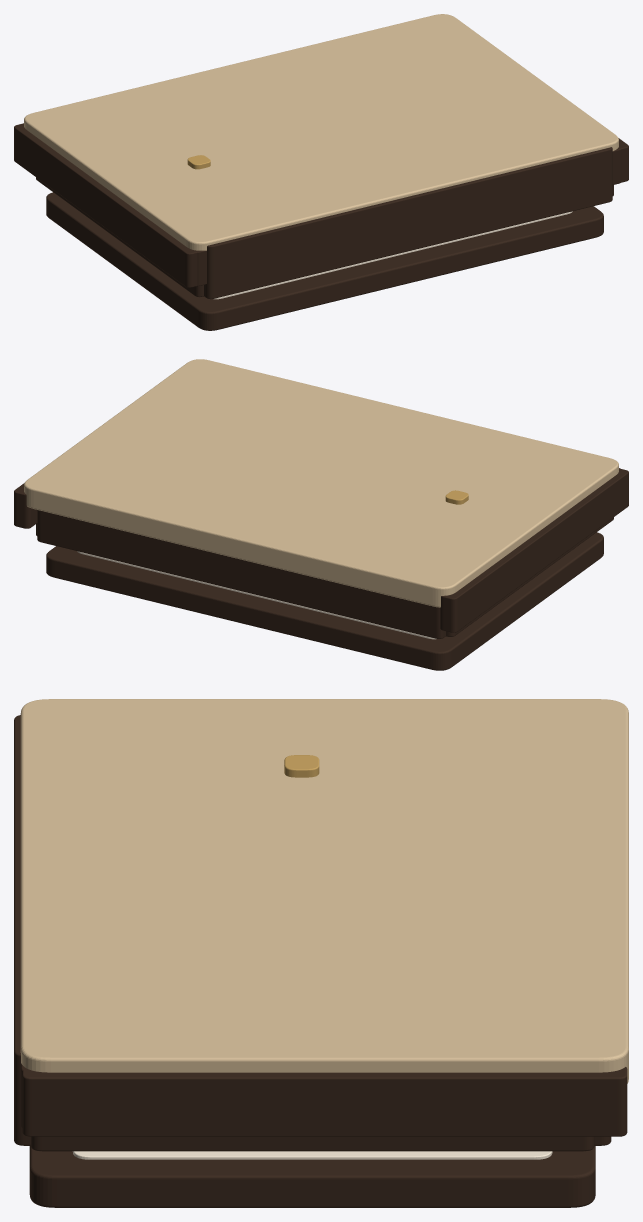
File: past-box.glb
3 views of the same model, one above another, from view 1: azimuth 30°, elevation 25°; view 2: azimuth 150°, elevation 25°; view 3: azimuth 270°, elevation 25° (orthographic). The views are drawn at different scales.
Visible parts, largest first — view 1: lid_panel, base_front_wall, base_floor, lid_left_lip, inner_tray, lid_front_lip, base_left_wall; view 2: lid_panel, base_floor, base_back_wall, lid_left_lip, inner_tray, lid_right_lip, base_left_wall; view 3: lid_panel, lid_right_lip, base_floor, base_right_wall, inner_tray, base_front_wall, item_perfume.
Part boxes in pixels (x1=…): lid_panel: x1=24, y1=14, x2=618, y2=250; base_front_wall: x1=204, y1=147, x2=612, y2=299; base_floor: x1=46, y1=192, x2=603, y2=330; lid_left_lip: x1=14, y1=123, x2=197, y2=287; inner_tray: x1=213, y1=211, x2=572, y2=299; lid_front_lip: x1=193, y1=146, x2=621, y2=286; base_left_wall: x1=36, y1=177, x2=203, y2=297; lid_panel: x1=24, y1=359, x2=618, y2=607; base_floor: x1=46, y1=532, x2=603, y2=670; base_back_wall: x1=37, y1=510, x2=445, y2=638; lid_left_lip: x1=440, y1=469, x2=628, y2=632; inner_tray: x1=77, y1=551, x2=436, y2=639; lid_right_lip: x1=14, y1=483, x2=37, y2=528; base_left_wall: x1=446, y1=517, x2=613, y2=636; lid_panel: x1=20, y1=699, x2=628, y2=1083; lid_right_lip: x1=22, y1=1067, x2=627, y2=1136; base_floor: x1=29, y1=1146, x2=595, y2=1207; base_right_wall: x1=31, y1=1136, x2=594, y2=1151; inner_tray: x1=72, y1=1151, x2=552, y2=1159; base_front_wall: x1=14, y1=715, x2=30, y2=1145; item_perfume: x1=284, y1=755, x2=319, y2=777.
Bounding box in the file's own units: 6.52 × 1.38 × 4.56.
